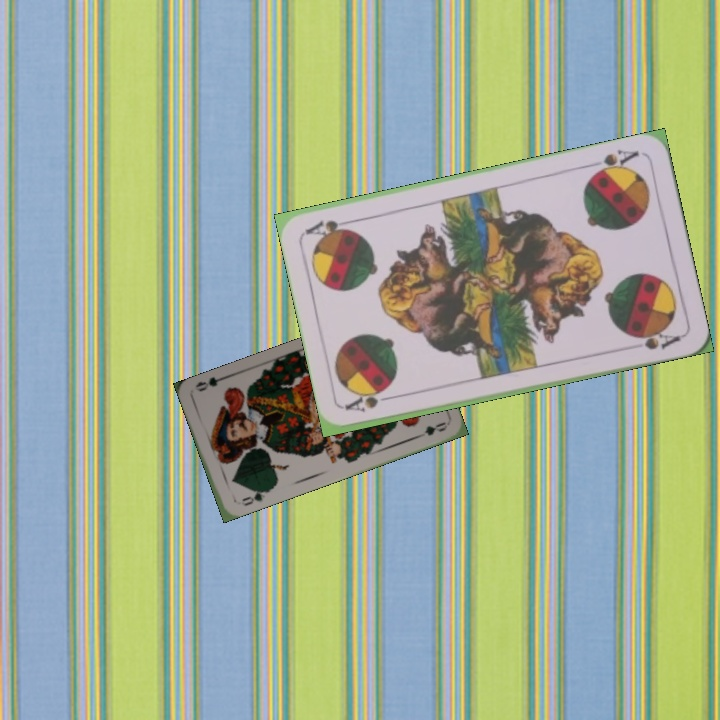GO: (237, 486, 271, 509)
SA: (586, 145, 642, 179), (341, 388, 400, 415)
